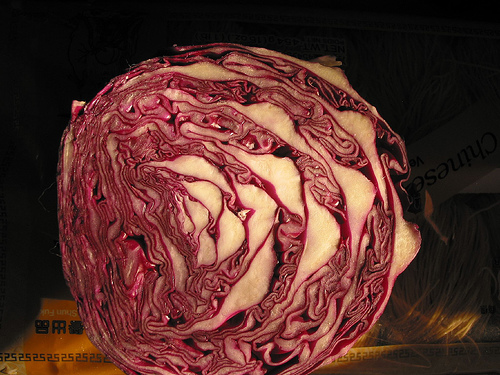cabbage: (53, 39, 425, 374)
